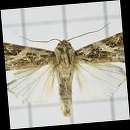Spodoptera litura: (6, 26, 125, 118)
